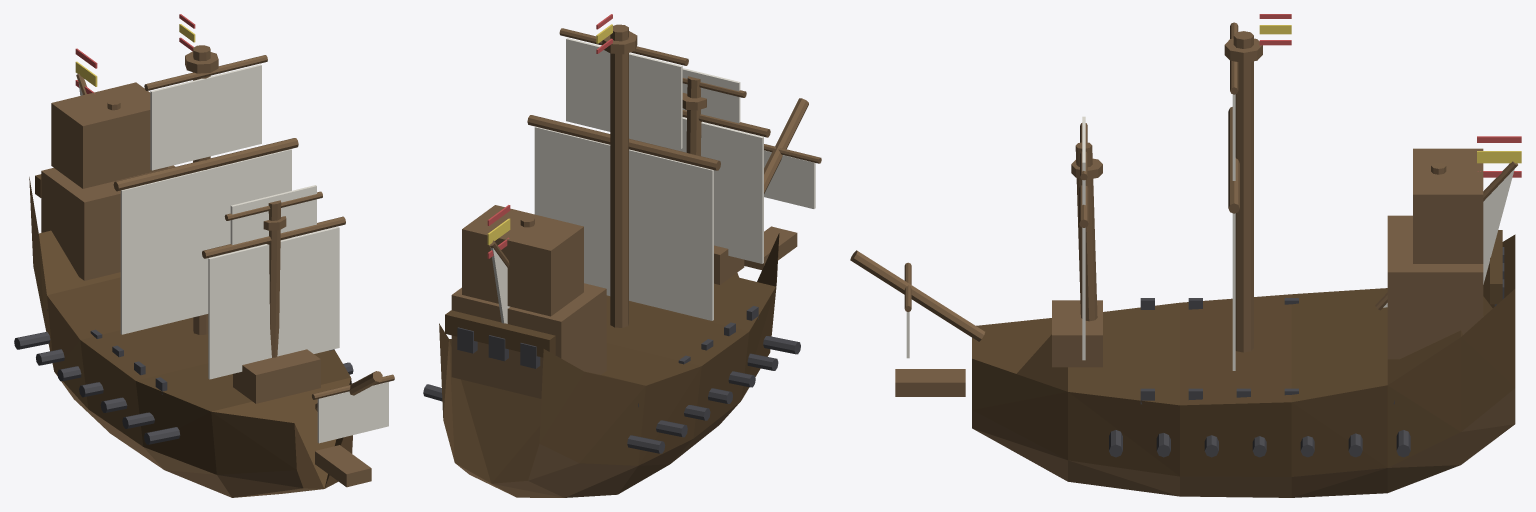
File: Galleon.fbx
The picture shows the model from 3 angles, left to right: view 1: azimuth 30°, elevation 25°; view 2: azimuth 150°, elevation 25°; view 3: azimuth 270°, elevation 25°; orthographic projection. The views are drawn at different scales.
Parts seen in each view (by area): view 1: Galleon; view 2: Galleon; view 3: Galleon.
Boxes of the visible parts, x1,y1,x2,y2 form: Galleon: (14,14,394,497); Galleon: (423,14,821,497); Galleon: (850,14,1521,497).
Bounding box in the file's own units: 6.83 × 11.91 × 15.92.
